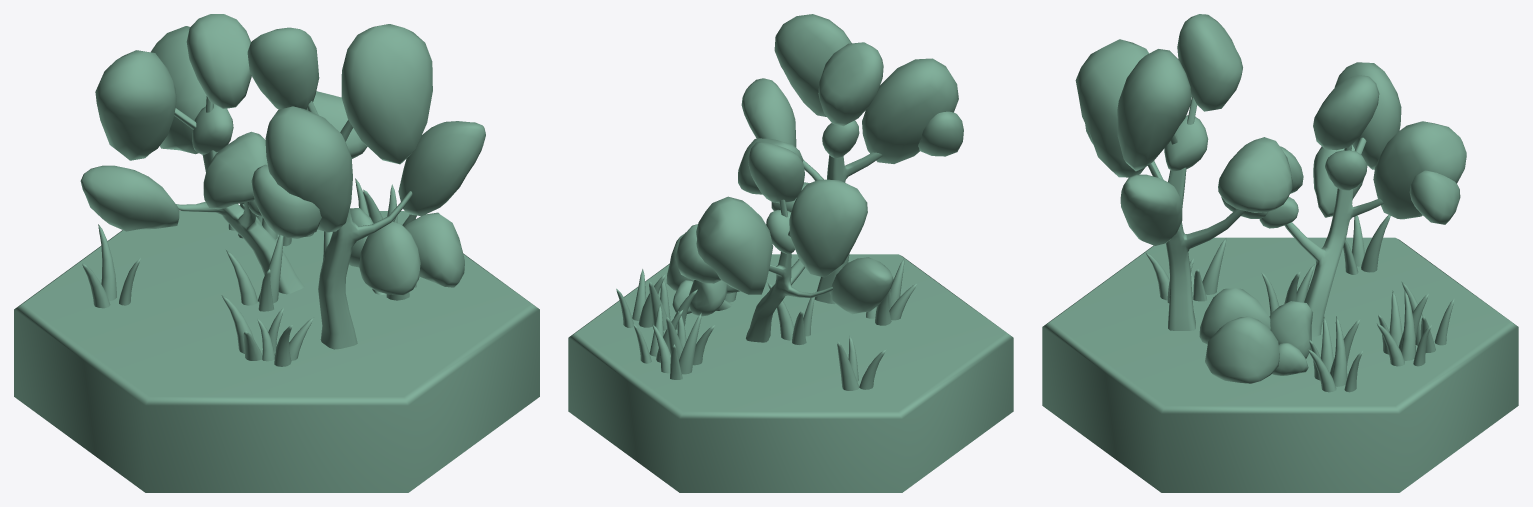
Rendered from 3_trees.fbx.
3 views of the same model, side by side, from view 1: azimuth 30°, elevation 25°; view 2: azimuth 150°, elevation 25°; view 3: azimuth 270°, elevation 25° (orthographic). The views are drawn at different scales.
Visible parts, largest first — view 1: polySurface49; view 2: polySurface49; view 3: polySurface49.
Boxes of the visible parts, left/top/right/bottom form: polySurface49: left=14, top=14, right=539, bottom=492; polySurface49: left=568, top=14, right=1013, bottom=492; polySurface49: left=1042, top=14, right=1518, bottom=492.
Bounding box in the file's own units: 4.05 × 4.02 × 4.68.
